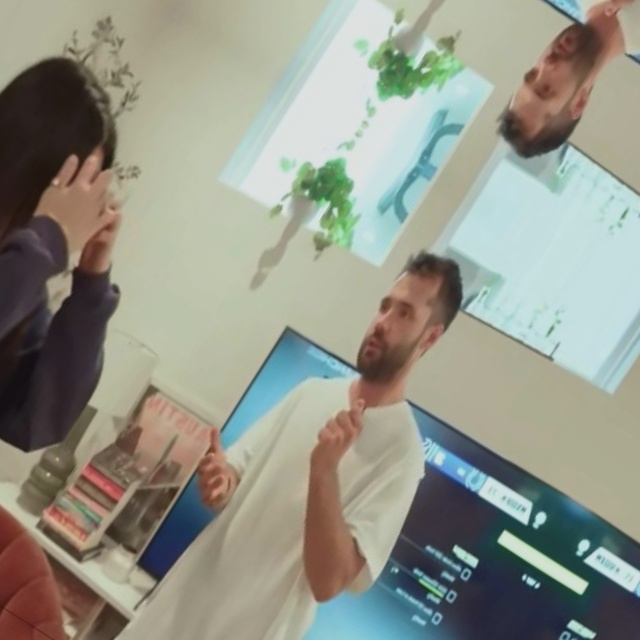Rock: (589, 0, 640, 25)
